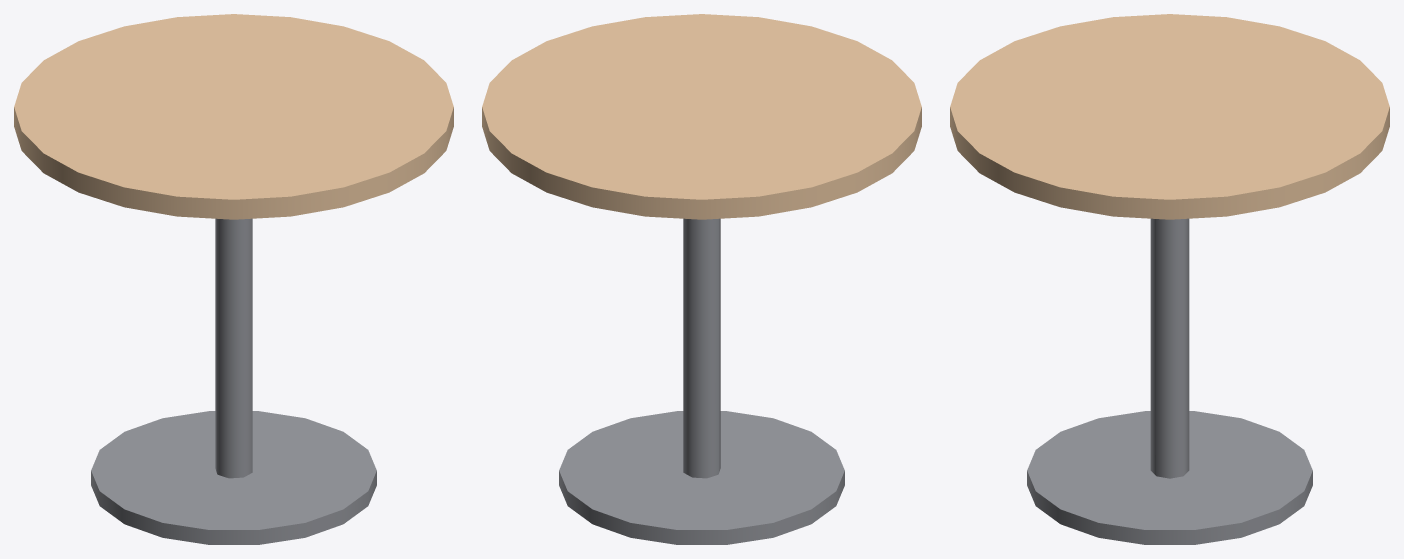
Rendered from cafe_table.glb.
3 renders of one model, left to right at view 1: azimuth 30°, elevation 25°; view 2: azimuth 150°, elevation 25°; view 3: azimuth 270°, elevation 25°, orthographic.
Parts seen in each view (by area): view 1: cafe_table; view 2: cafe_table; view 3: cafe_table.
Part boxes in pixels (x1,y1,x2,y2): cafe_table: [14, 14, 453, 544]; cafe_table: [482, 14, 921, 544]; cafe_table: [950, 14, 1389, 544].
Bounding box in the file's own units: 0.8 × 0.76 × 0.8.
